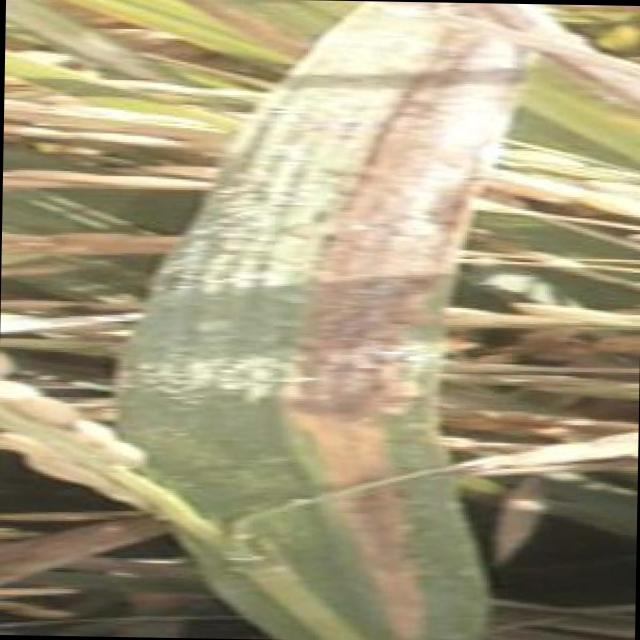Rice_Bacterial_Blight: (186, 73, 452, 640)
